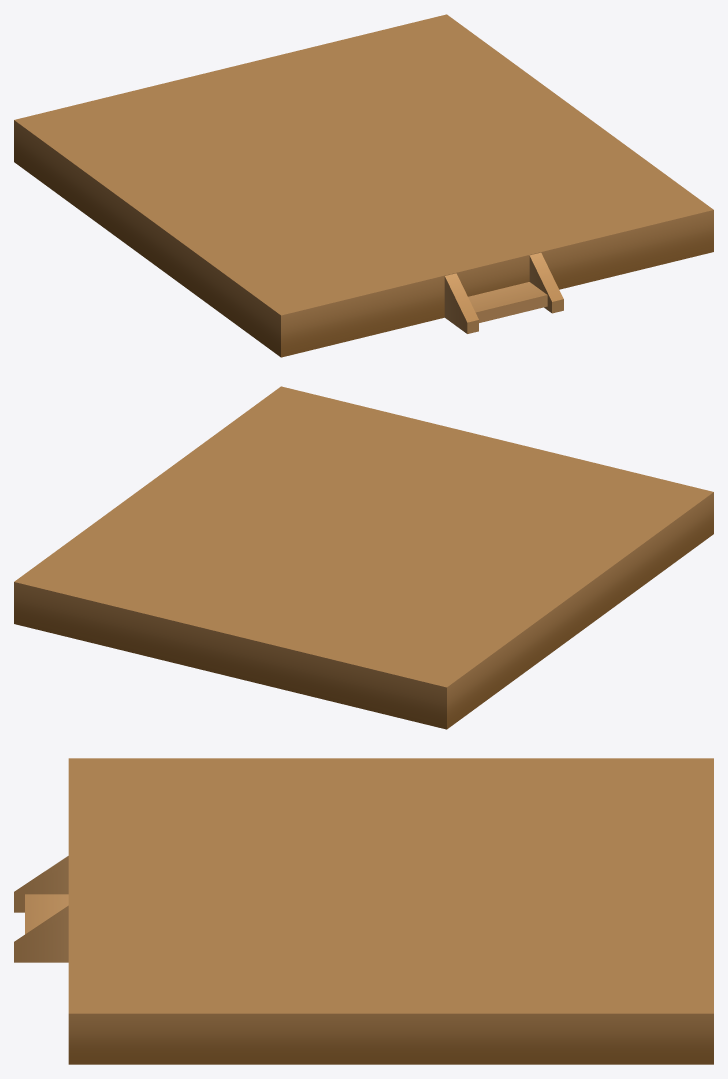
The model's file is House_4x4_Base.fbx.
The picture shows the model from 3 angles, top to bottom: view 1: azimuth 30°, elevation 25°; view 2: azimuth 150°, elevation 25°; view 3: azimuth 270°, elevation 25°; orthographic projection. The views are drawn at different scales.
Visible parts, largest first — view 1: House_4x4_Base; view 2: House_4x4_Base; view 3: House_4x4_Base.
Part boxes in pixels (x1,y1,x2,y2): House_4x4_Base: (14,14,713,357); House_4x4_Base: (14,386,713,729); House_4x4_Base: (14,758,713,1064).
Bounding box in the file's own units: 4.84 × 0.45 × 5.61.
1 material, 1 textured.
